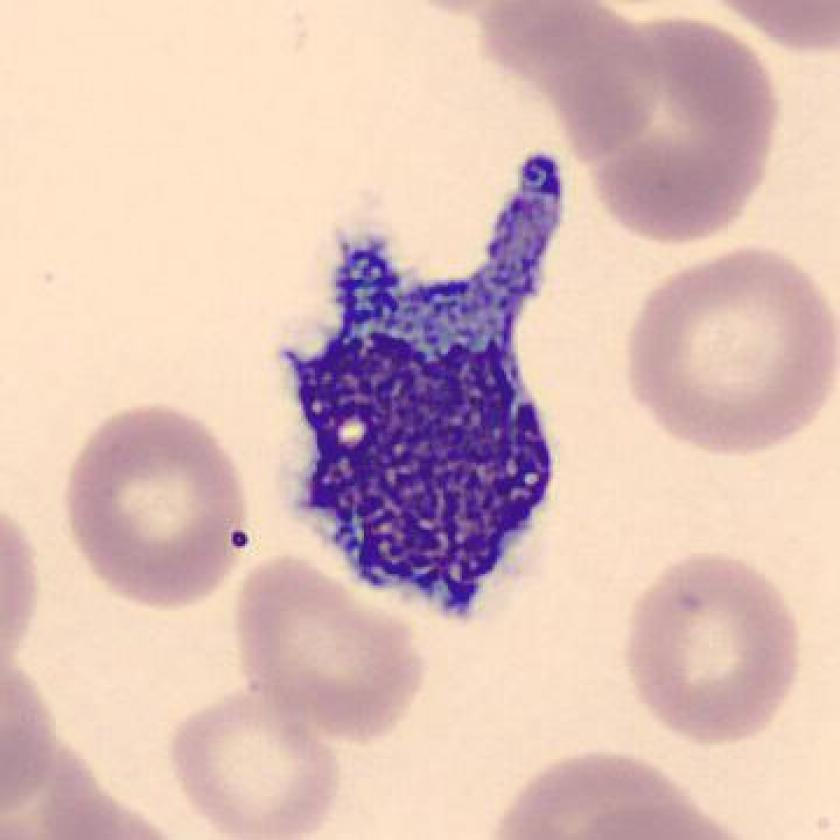monocyte: (255, 131, 594, 635)
